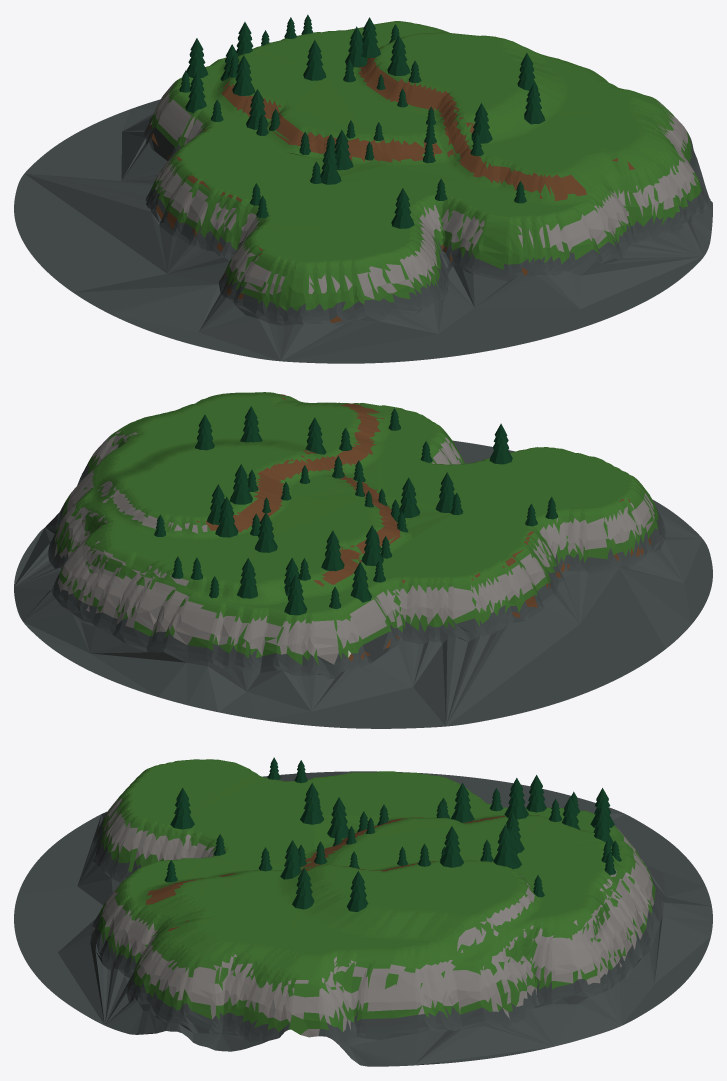
File: Insel_01.fbx
3 views of the same model, one above another, from view 1: azimuth 30°, elevation 25°; view 2: azimuth 150°, elevation 25°; view 3: azimuth 270°, elevation 25° (orthographic). The views are drawn at different scales.
Parts seen in each view (by area): view 1: Cube; view 2: Cube; view 3: Cube.
Part boxes in pixels (x1=…): Cube: x1=14, y1=14, x2=712, y2=363; Cube: x1=14, y1=392, x2=712, y2=728; Cube: x1=14, y1=757, x2=712, y2=1066.
Bounding box in the file's own units: 1831 × 384 × 1831.
